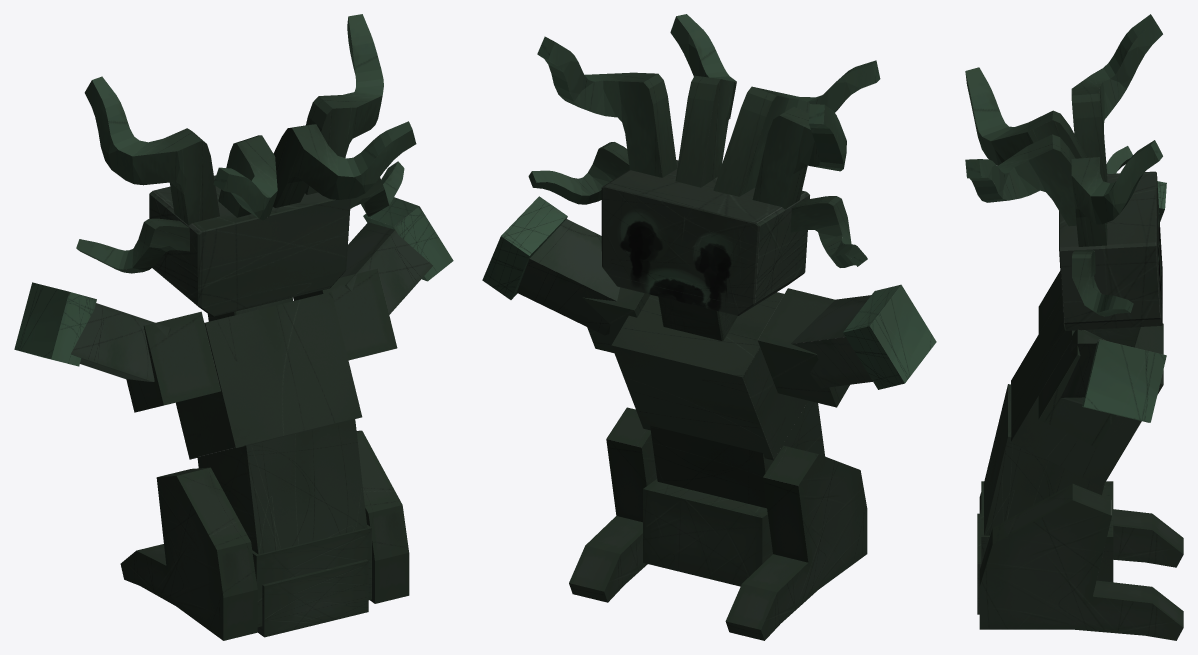
The model's file is enemy 7.fbx.
3 views of the same model, side by side, from view 1: azimuth 30°, elevation 25°; view 2: azimuth 150°, elevation 25°; view 3: azimuth 270°, elevation 25° (orthographic). The views are drawn at different scales.
Parts seen in each view (by area): view 1: Cube.005, Cube.013, Cube.006, Cube.012, Cube.002, Cube.020, Cube.008; view 2: Cube.005, Cube.013, Cube.012, Cube.006, Cube.020, Cube.008, Cube.002; view 3: Cube.005, Cube.013, Cube.012, Cube.008, Cube.006, Cube.002, Cube.020.
Boxes of the visible parts, bbox=[...] form: Cube.005: bbox=[120, 430, 409, 640]; Cube.013: bbox=[76, 14, 416, 273]; Cube.006: bbox=[176, 292, 362, 459]; Cube.012: bbox=[149, 175, 350, 321]; Cube.002: bbox=[197, 419, 367, 554]; Cube.020: bbox=[14, 282, 220, 412]; Cube.008: bbox=[293, 197, 453, 360]; Cube.005: bbox=[569, 407, 867, 640]; Cube.013: bbox=[528, 14, 880, 267]; Cube.012: bbox=[601, 160, 809, 340]; Cube.006: bbox=[611, 292, 808, 460]; Cube.020: bbox=[757, 284, 936, 407]; Cube.008: bbox=[482, 196, 650, 352]; Cube.002: bbox=[650, 401, 825, 508]; Cube.005: bbox=[977, 481, 1183, 640]; Cube.013: bbox=[965, 14, 1162, 316]; Cube.012: bbox=[1059, 171, 1162, 347]; Cube.008: bbox=[1038, 329, 1166, 447]; Cube.006: bbox=[1011, 296, 1163, 486]; Cube.002: bbox=[984, 384, 1104, 535]; Cube.020: bbox=[1038, 173, 1166, 333].
Size of the model in its own units: 284 by 346 by 133.
